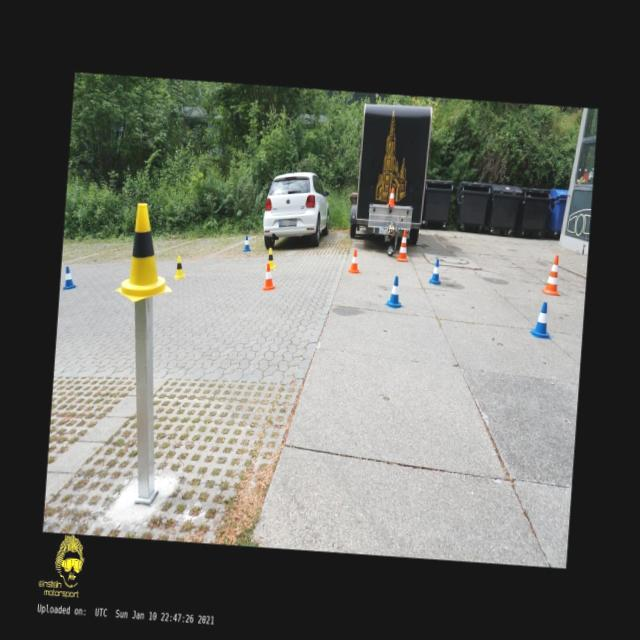blue_cone: (528, 300, 554, 338), (384, 274, 404, 309), (428, 258, 442, 284), (62, 266, 77, 290), (242, 234, 251, 252)
large_orange_cone: (542, 253, 562, 295), (396, 228, 410, 262)
orange_cone: (262, 262, 276, 290), (347, 248, 361, 273), (386, 186, 396, 206)
yellow_cone: (114, 200, 177, 304), (173, 254, 187, 280), (267, 247, 276, 268)
